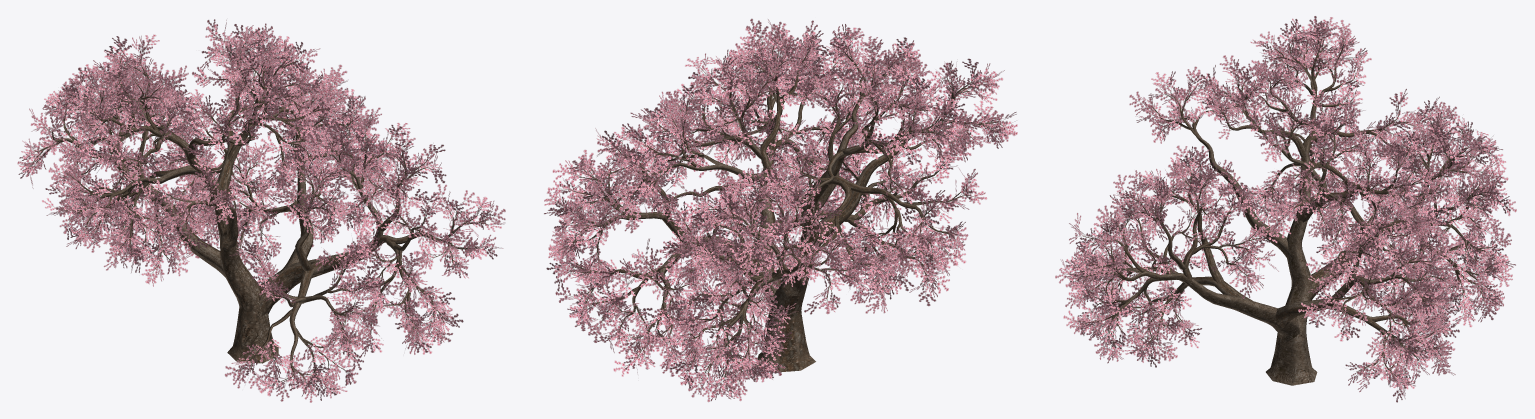
Rendered from my_tree_otp.glb.
The picture shows the model from 3 angles, left to right: view 1: azimuth 30°, elevation 25°; view 2: azimuth 150°, elevation 25°; view 3: azimuth 270°, elevation 25°; orthographic projection. The views are drawn at different scales.
Bounding box in the file's own units: 77.95 × 66.41 × 89.63.
2 materials, 2 textured.
